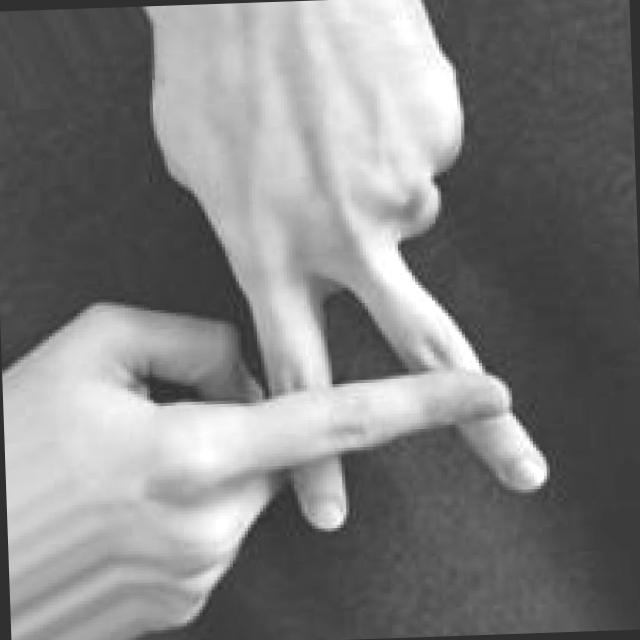A: (51, 0, 554, 637)
